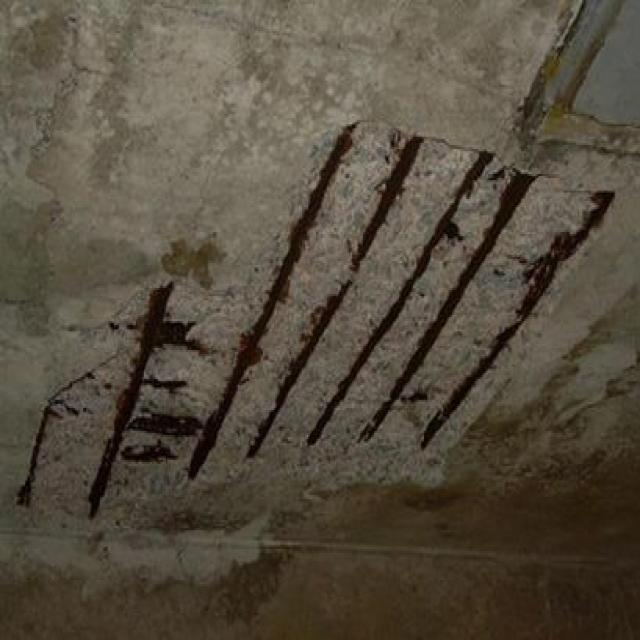spalling: (9, 119, 626, 542)
stain_mould: (186, 123, 355, 476), (250, 139, 425, 452), (360, 177, 534, 443), (82, 290, 170, 519)
